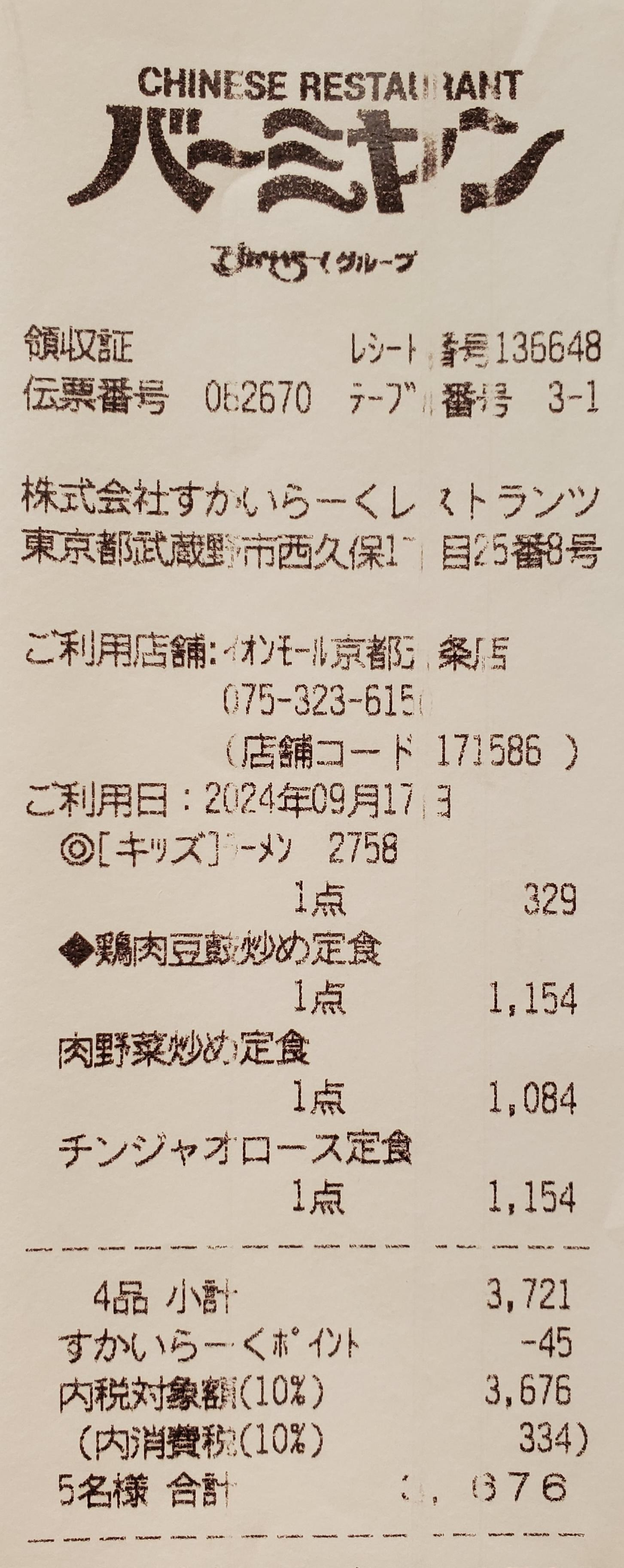TEL: (219, 675, 452, 721)
date: (198, 776, 424, 823)
total: (387, 1468, 576, 1511)
